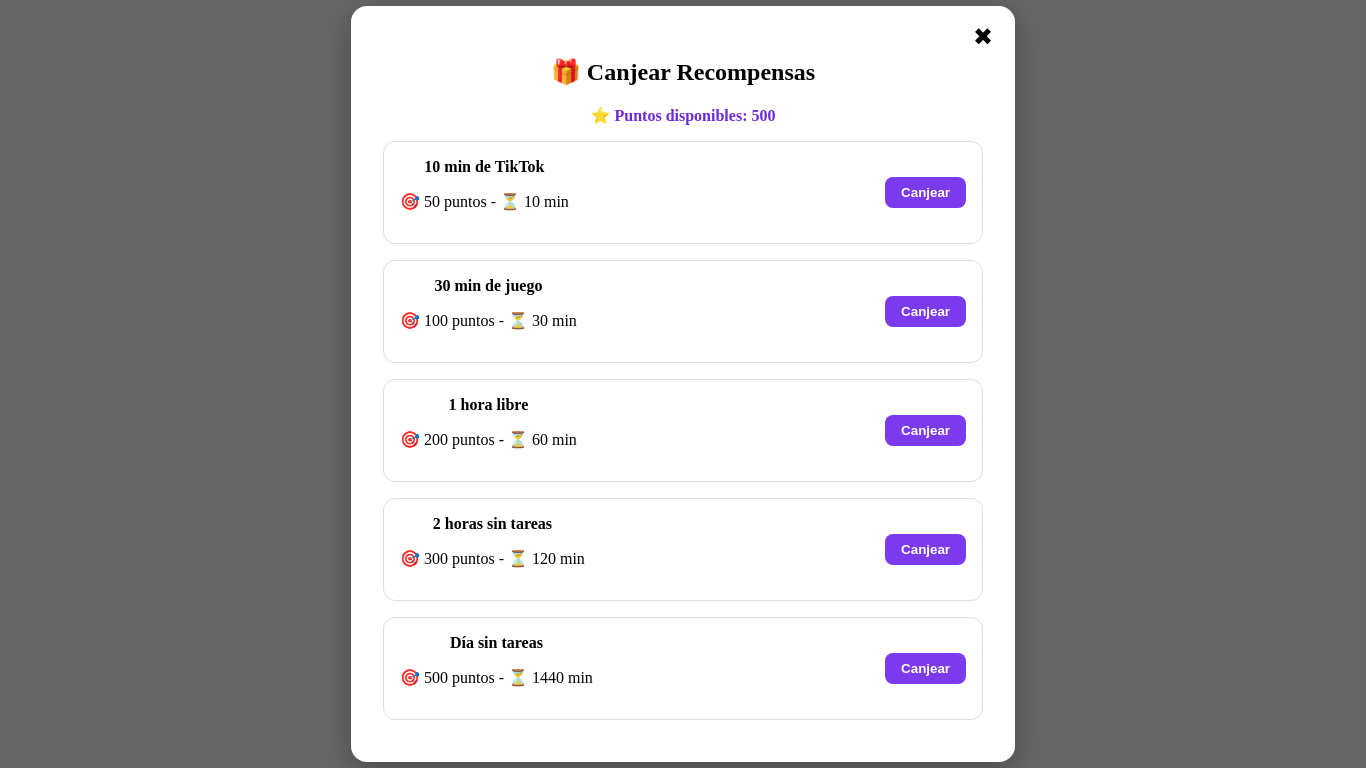
it: Recompensas › canjea recompensa si alcanza los puntos
Click the 1st button "Canjear" at (926, 193), box [885,177,966,208]
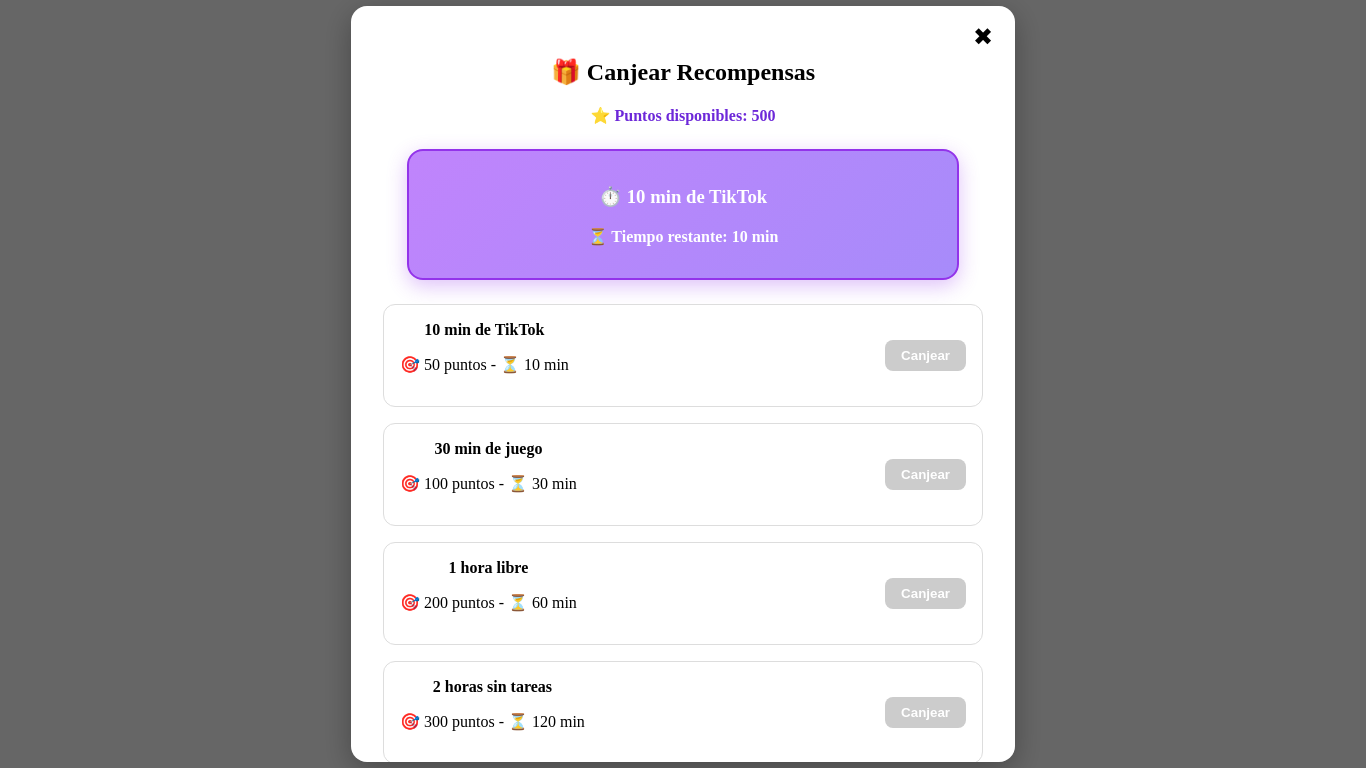
Result: the text "⏳ Tiempo restante: 10 min" is shown at [588,228,778,245]
